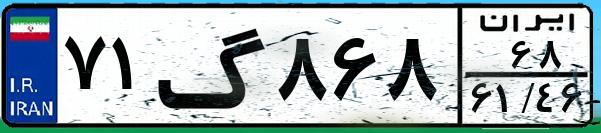1: (110, 28, 156, 98), (495, 70, 520, 125)
4: (535, 70, 560, 125)
6: (330, 28, 385, 110), (560, 70, 590, 125), (508, 27, 537, 80), (470, 70, 495, 125)
7: (57, 26, 110, 100)
8: (270, 28, 330, 110), (385, 28, 445, 110), (537, 27, 568, 80)
گ: (156, 12, 270, 120)
